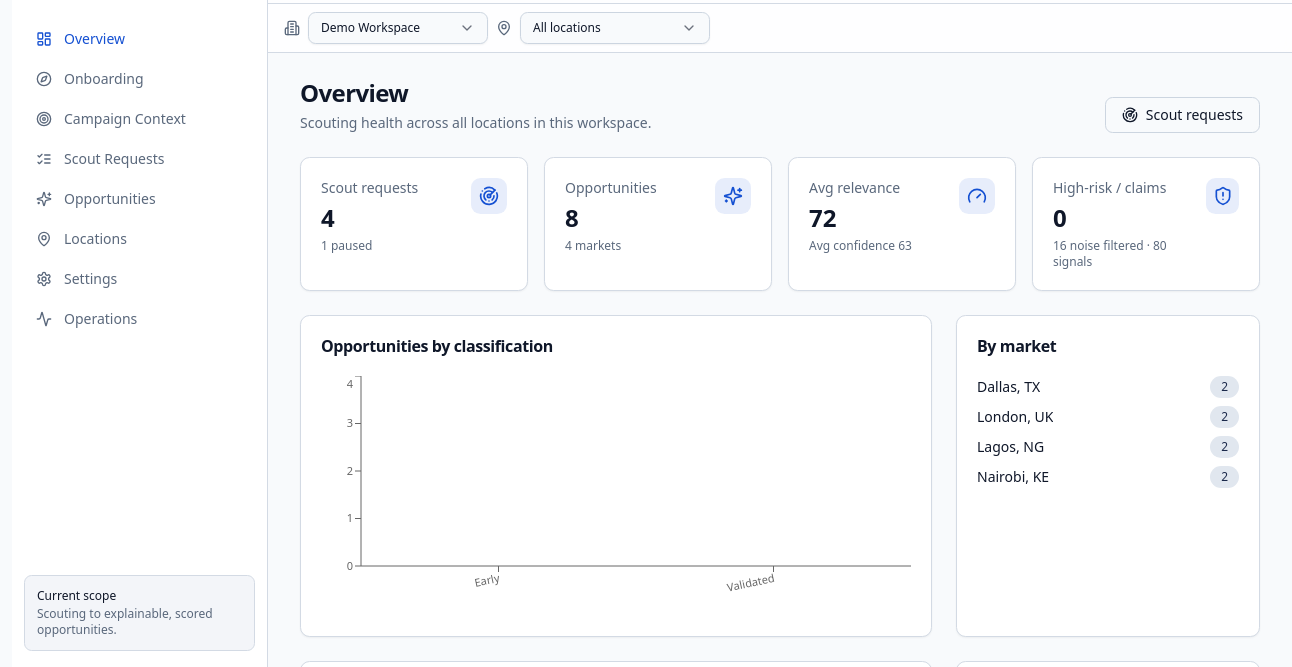
Scenario: route inventory (plan §5A.3) › navigates by sidebar link, card link and history back
The width and height of the screenshot is (1292, 667).
Expected: the heading "Overview" is shown, [300,76,408,109]
Click the link "Opportunities" at x=96, y=198, box [36,189,156,208]
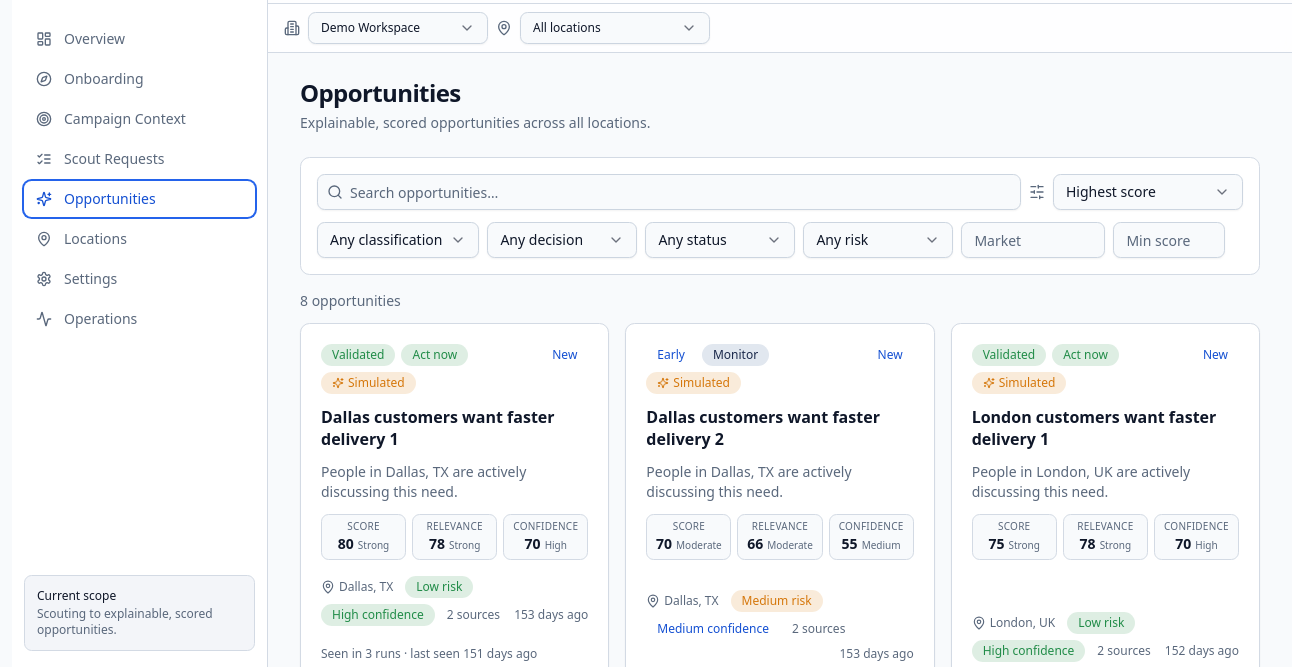
Now the heading "Opportunities" is shown, box [300,76,461,109]
Click the link "Dallas customers want faster delivery 1" at x=455, y=428, box [321,406,588,450]
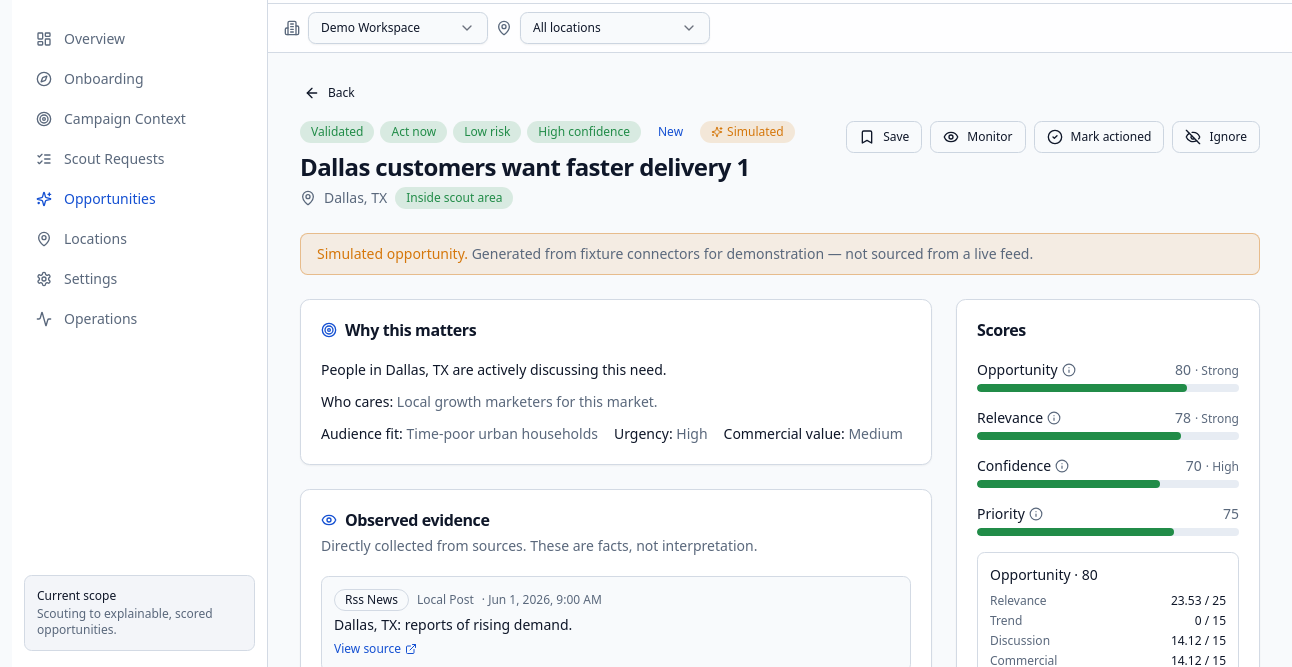
Now the heading "Dallas customers want faster delivery 1" is shown, box [300,151,795,183]
Click the button "Back" at x=329, y=93, box [292,77,367,109]
(page scrolled)
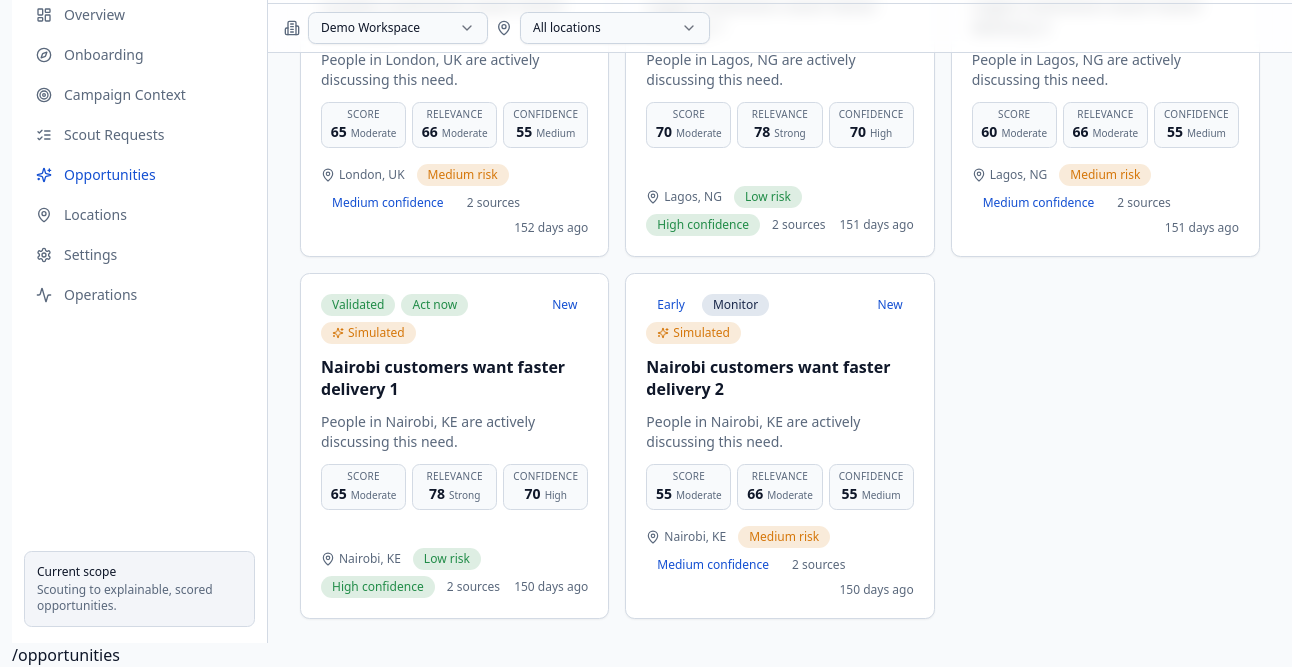
Now the text with test id "router-location" reads "/opportunities", box [12,644,120,666]
